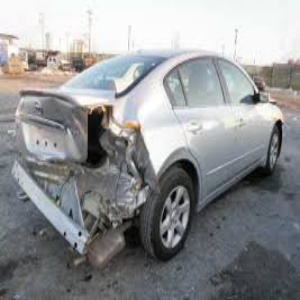bonnet: (15, 85, 100, 146)
bumper: (45, 173, 144, 257)
